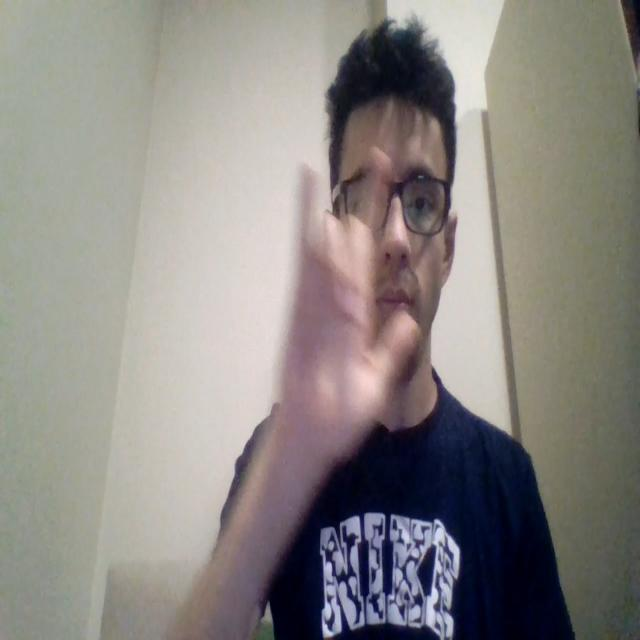iloveyou: (276, 162, 423, 463)
